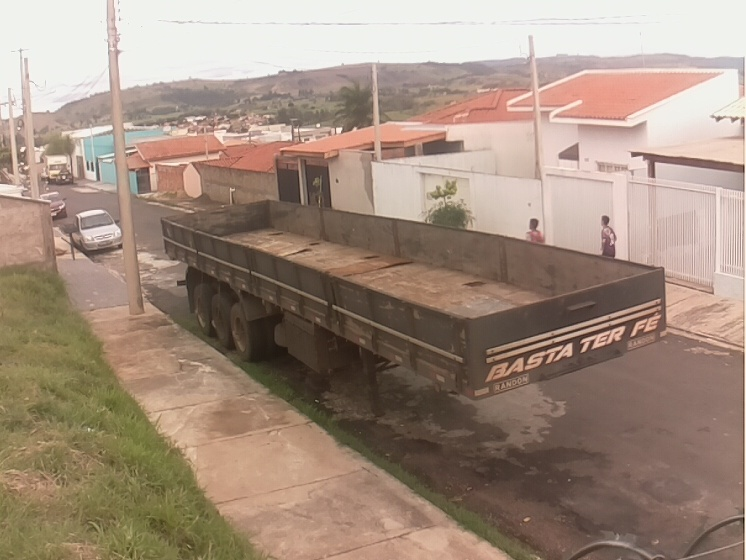person: (596, 212, 618, 260), (525, 216, 547, 243)
